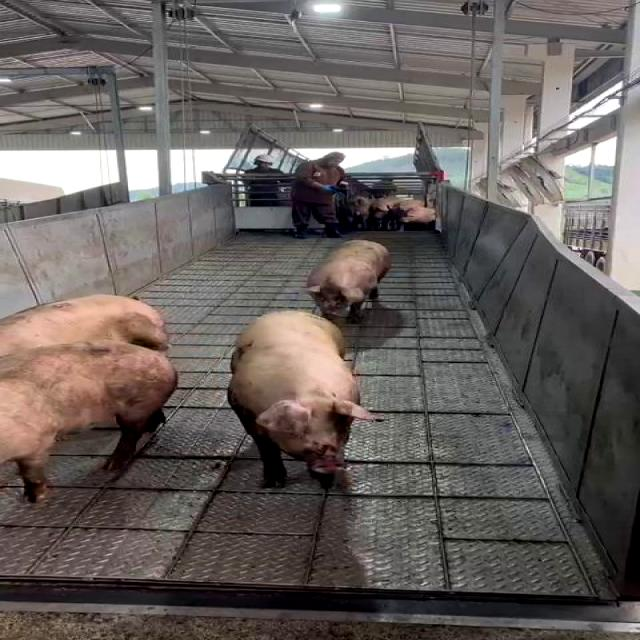pig: (1, 342, 176, 500), (230, 312, 379, 486), (0, 295, 168, 355), (306, 241, 390, 323)
